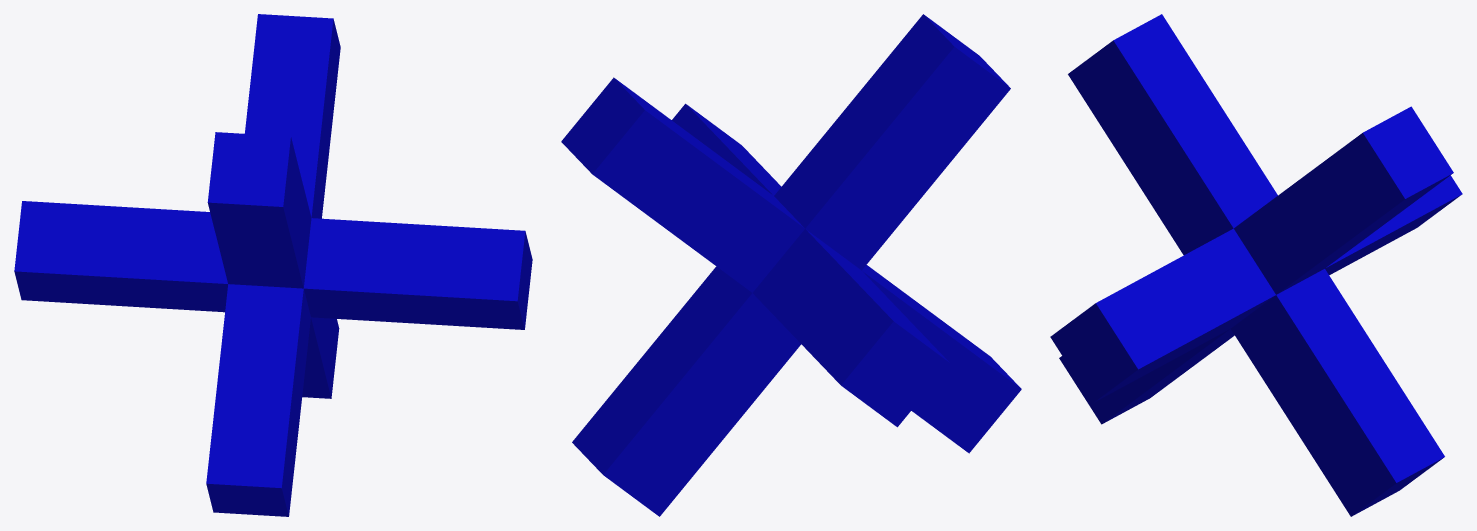
File: dead star 2-3.glb
3 views of the same model, side by side, from view 1: azimuth 30°, elevation 25°; view 2: azimuth 150°, elevation 25°; view 3: azimuth 270°, elevation 25° (orthographic). The views are drawn at different scales.
Parts seen in each view (by area): view 1: Cube.003_Cube, Cube, Cube.001_Cube; view 2: Cube.001_Cube, Cube, Cube.003_Cube; view 3: Cube.001_Cube, Cube, Cube.003_Cube.
Boxes of the visible parts, x1=… form: Cube.003_Cube: x1=14, y1=201, x2=532, y2=329; Cube: x1=206, y1=14, x2=340, y2=516; Cube.001_Cube: x1=207, y1=132, x2=339, y2=398; Cube.001_Cube: x1=572, y1=14, x2=1010, y2=516; Cube: x1=561, y1=77, x2=1021, y2=453; Cube.003_Cube: x1=672, y1=103, x2=949, y2=427; Cube.001_Cube: x1=1068, y1=14, x2=1444, y2=516; Cube: x1=1059, y1=106, x2=1453, y2=424; Cube.003_Cube: x1=1050, y1=175, x2=1462, y2=402.
Size of the model in its own units: 0.5677 by 0.5153 by 0.4838.
